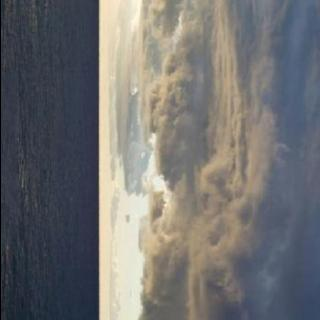Nimbostratus: (103, 0, 320, 320)
